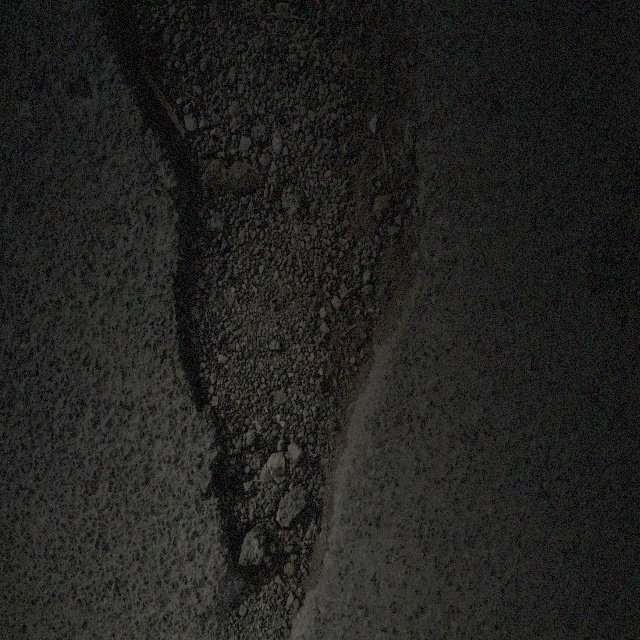pothole: (88, 26, 425, 612)
